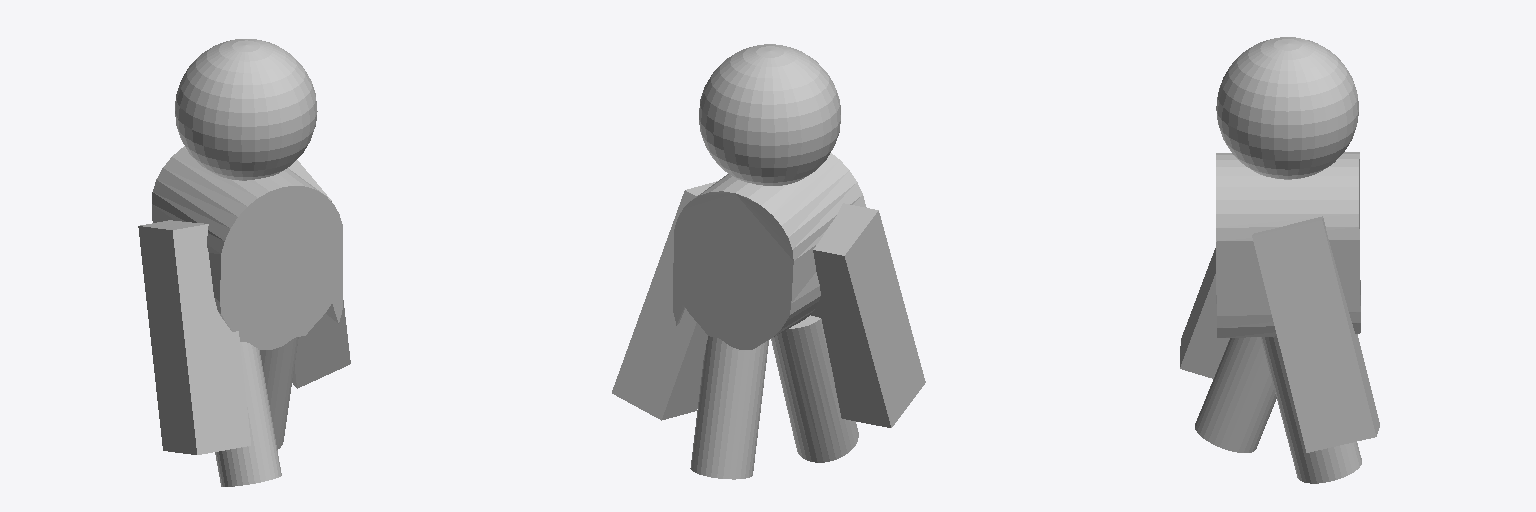
Rendered from Figurine132.obj.
3 views of the same model, side by side, from view 1: azimuth 30°, elevation 25°; view 2: azimuth 150°, elevation 25°; view 3: azimuth 270°, elevation 25° (orthographic).
Parts seen in each view (by area): view 1: Cylinder; view 2: Cylinder; view 3: Cylinder.
Part boxes in pixels (x1,y1,x2,y2): Cylinder: (138,39,350,486); Cylinder: (612,44,925,479); Cylinder: (1180,37,1379,483).
Bounding box in the file's own units: 3.49 × 6.46 × 2.81.